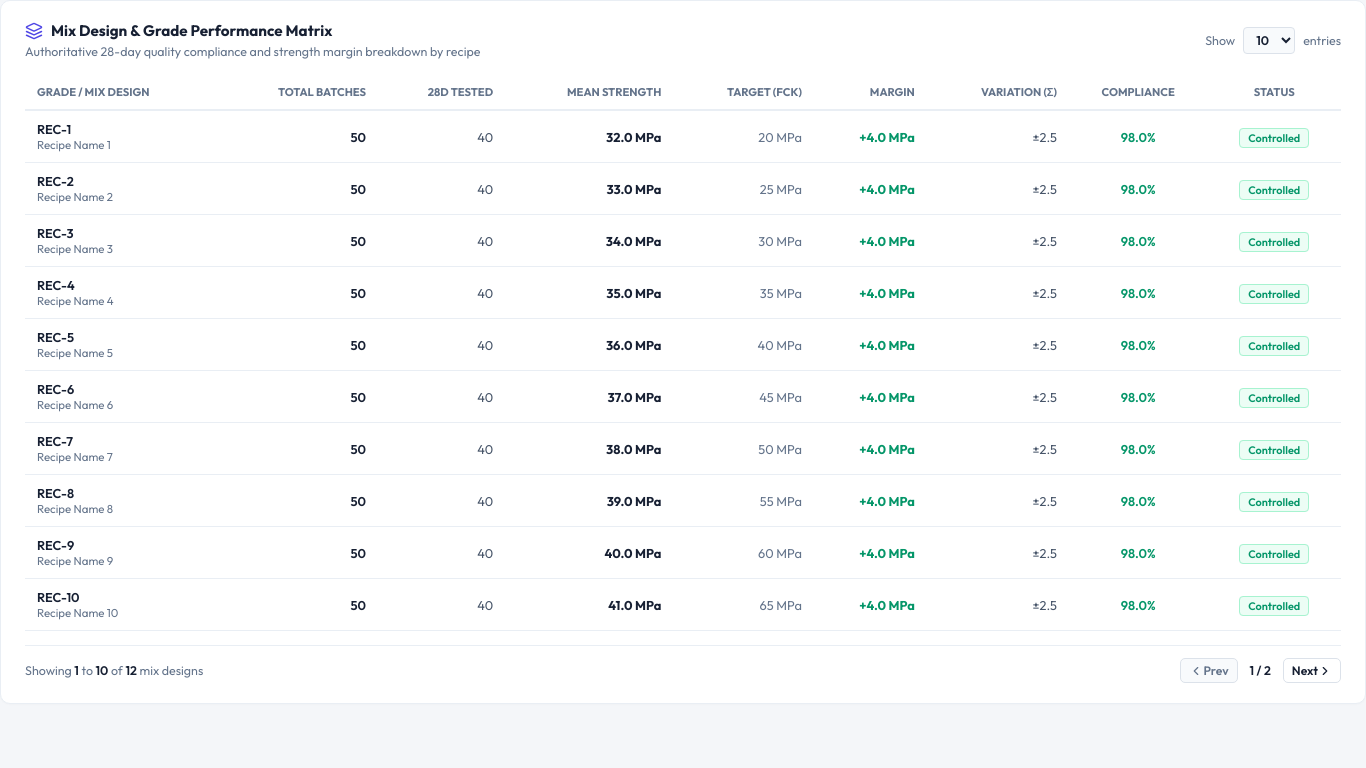
Scenario: WS-DASH-3B Material Consumption, Batch Variance & Binder Intensity Test Suite › renders paginated MixPerformanceMatrix with page size and navigation controls
Check: the text "Showing 1 to 10 of 12 mix designs" is shown, box [25,663,203,678]
Check: the text "1 / 2" is shown, box [1250,663,1271,678]
// Click Next page
Click the button "Next" at (1312,670), box [1283,658,1341,683]
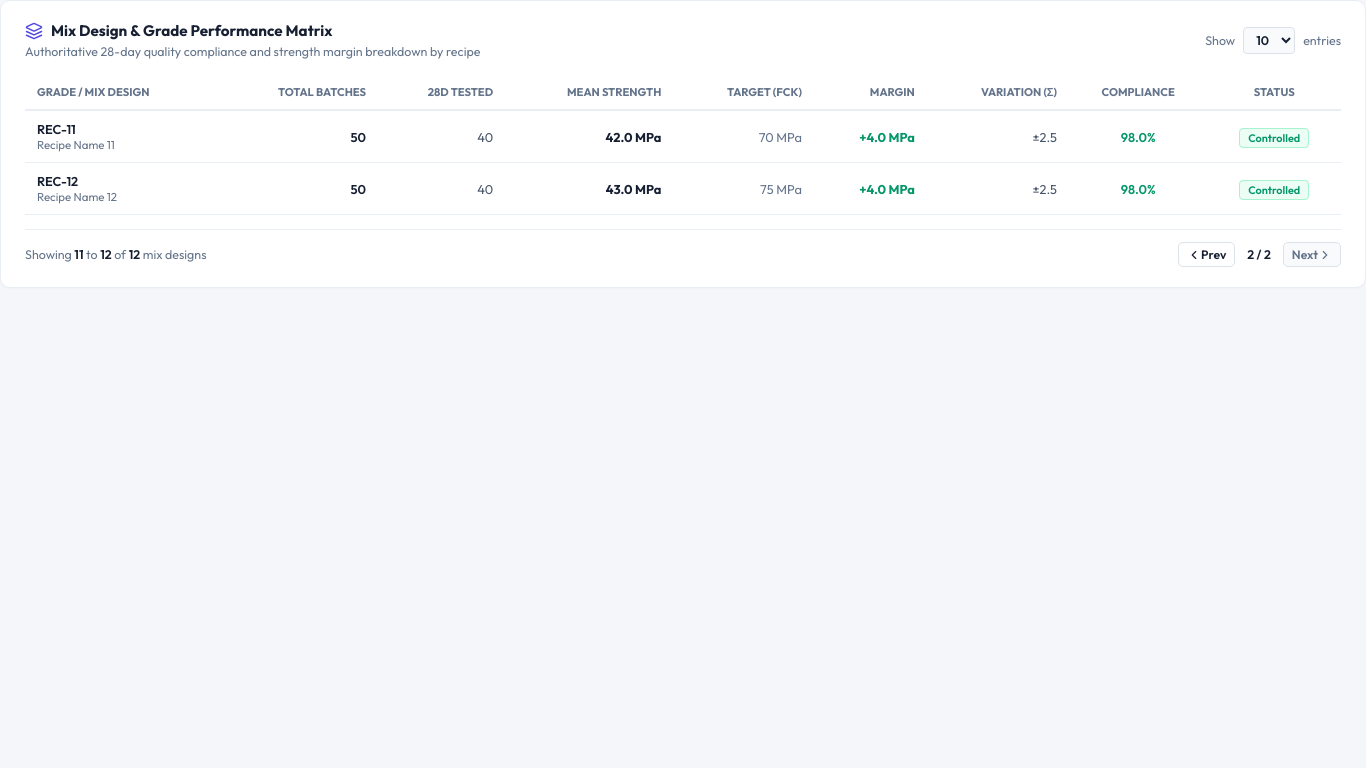
Check: the text "Showing 11 to 12 of 12 mix designs" is shown, box [25,247,206,262]
Check: the text "2 / 2" is shown, box [1247,247,1271,262]
